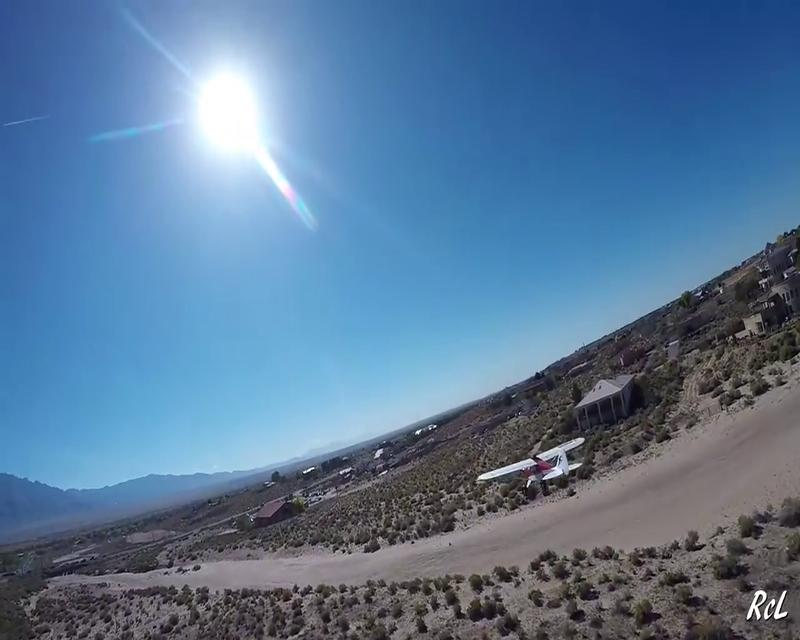UAV: (477, 437, 586, 489)
